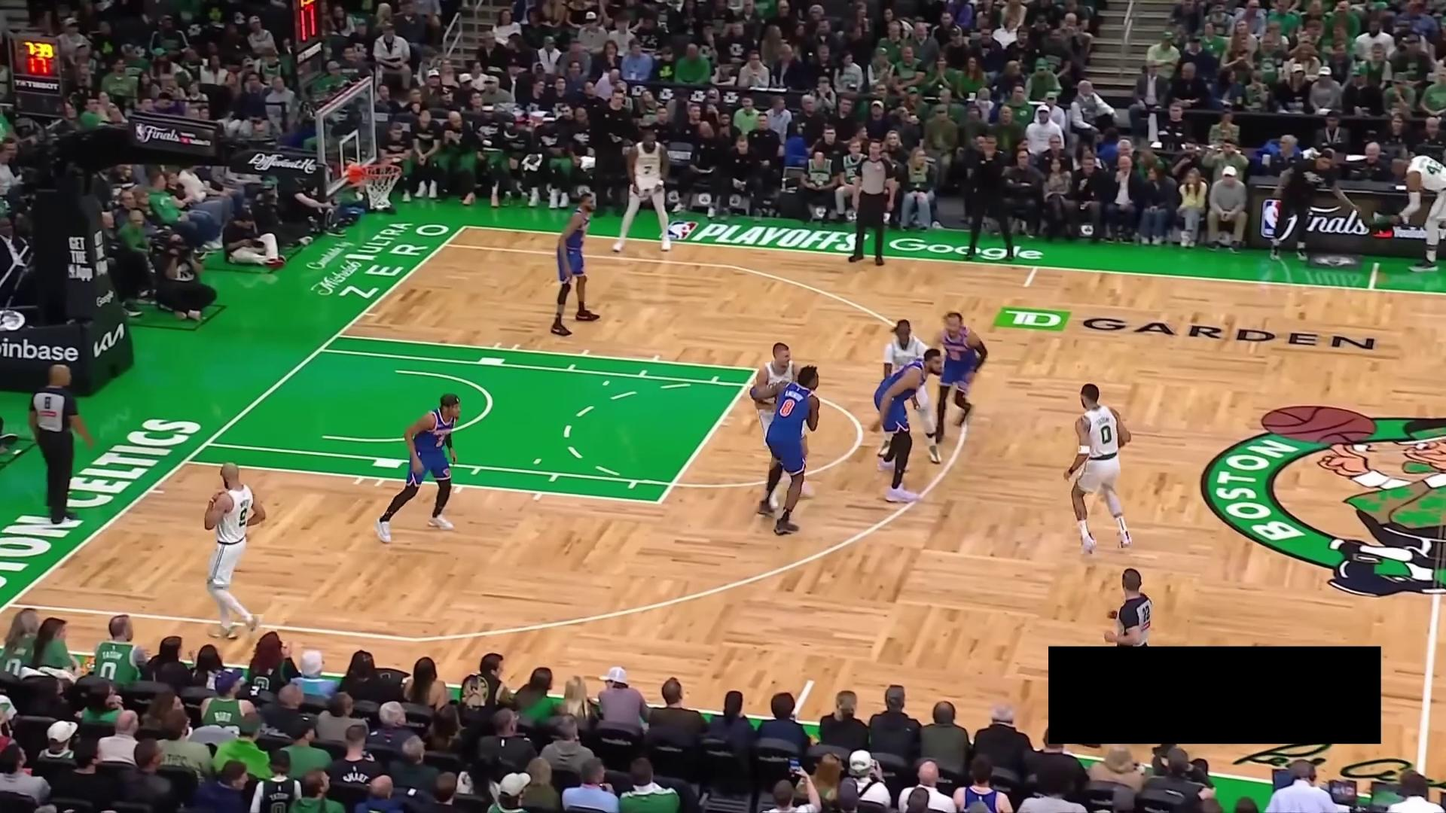number: (779, 398, 796, 417), (1100, 425, 1112, 444), (238, 507, 247, 527), (435, 434, 446, 448), (642, 164, 653, 175)
player: (374, 391, 462, 545), (750, 362, 822, 536), (869, 348, 946, 504), (202, 461, 267, 641), (749, 342, 816, 510), (876, 318, 942, 465), (610, 128, 674, 254), (930, 310, 989, 444), (550, 189, 602, 337)
player-in-possession: (1063, 382, 1134, 558)
referee: (27, 364, 94, 525), (847, 137, 898, 266), (1103, 568, 1153, 647)
rim: (361, 163, 403, 178)
